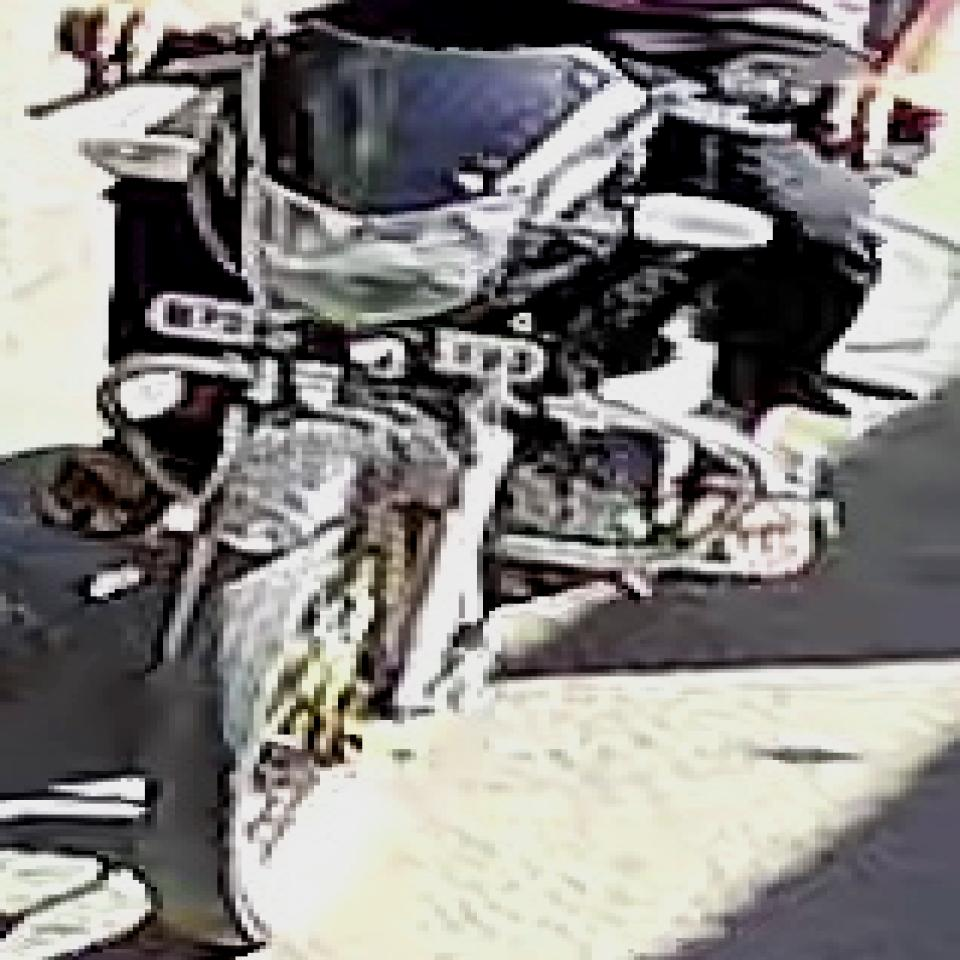head_light: (243, 178, 530, 330)
